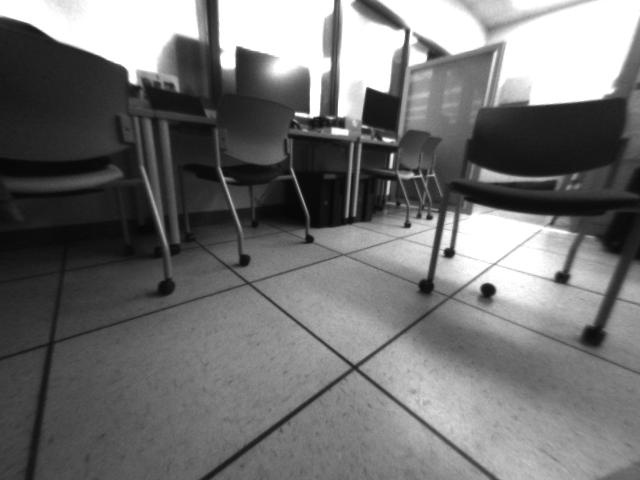dogtoy: (475, 276, 502, 304)
